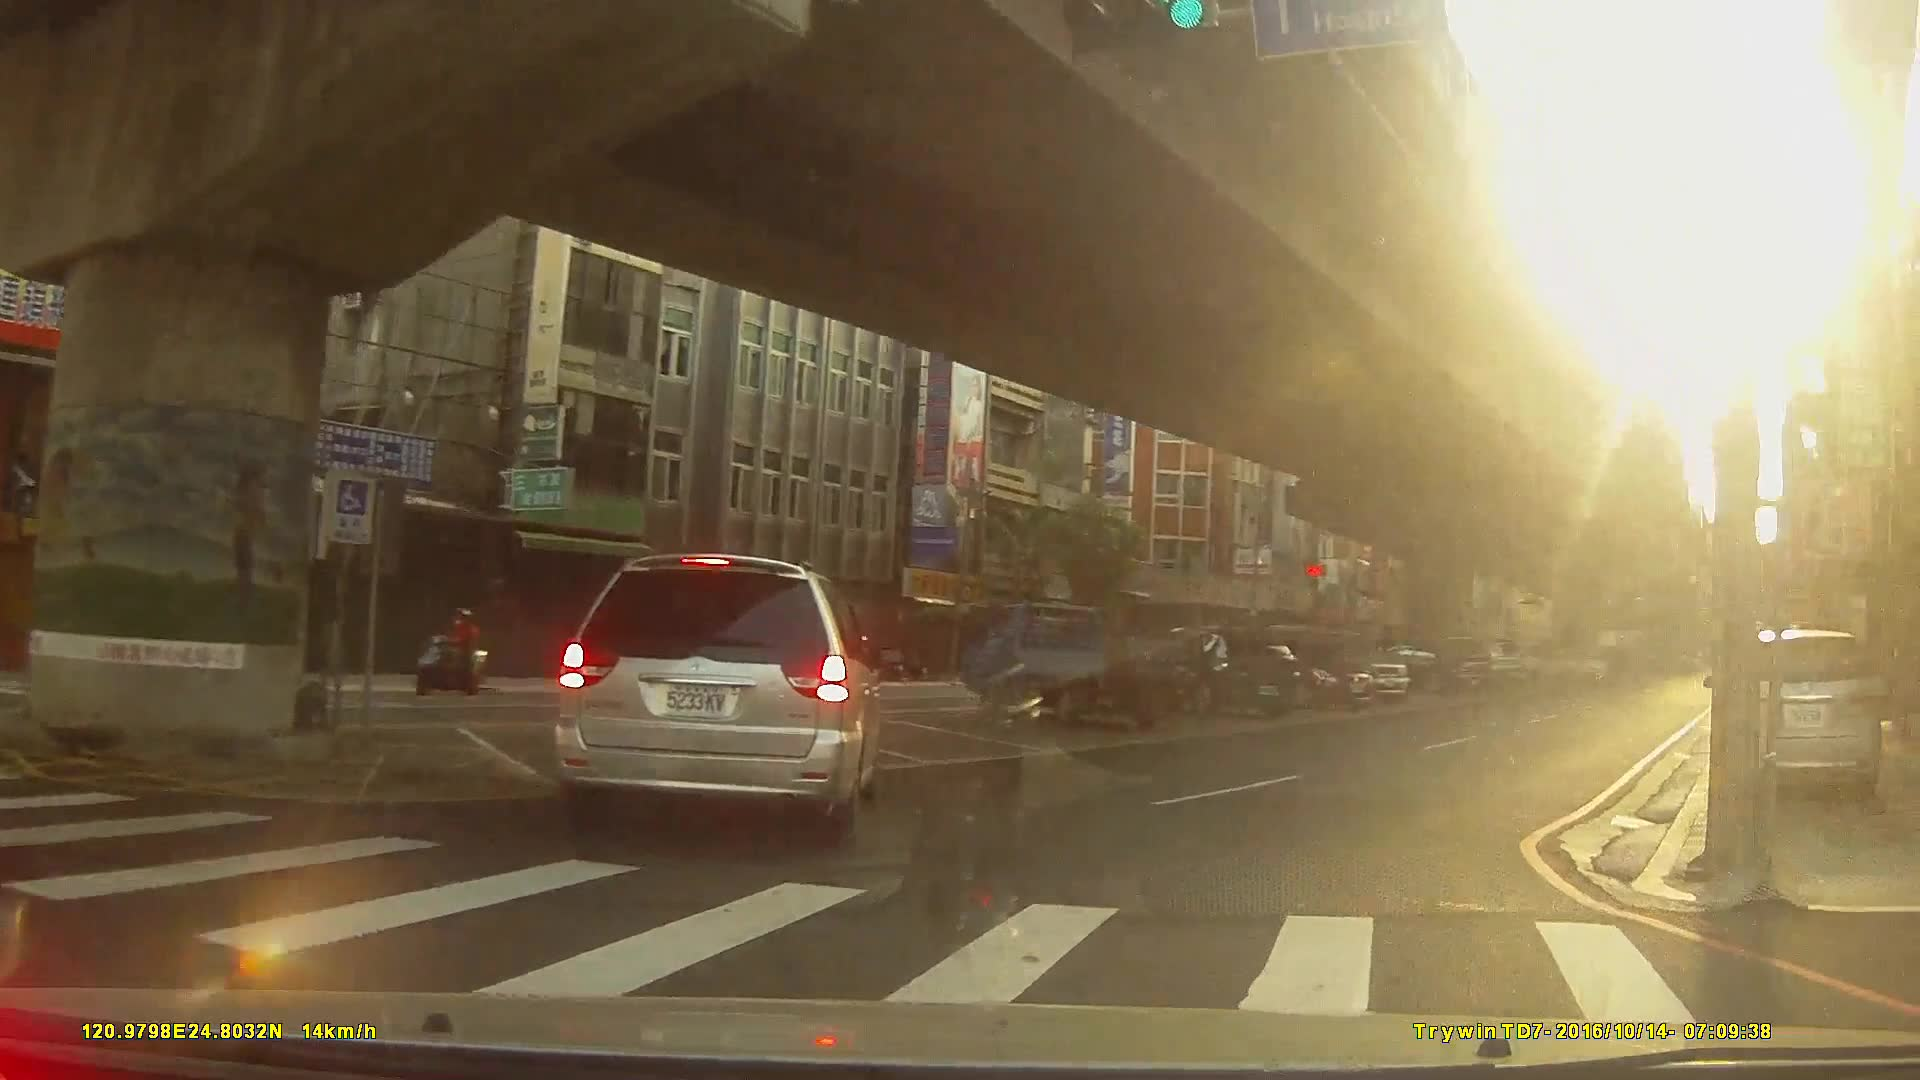rider: (416, 609, 487, 698)
vehicle: (554, 552, 884, 849), (1715, 625, 1883, 808), (963, 597, 1188, 723), (1130, 622, 1299, 717), (1219, 630, 1376, 708), (1360, 641, 1465, 694)
